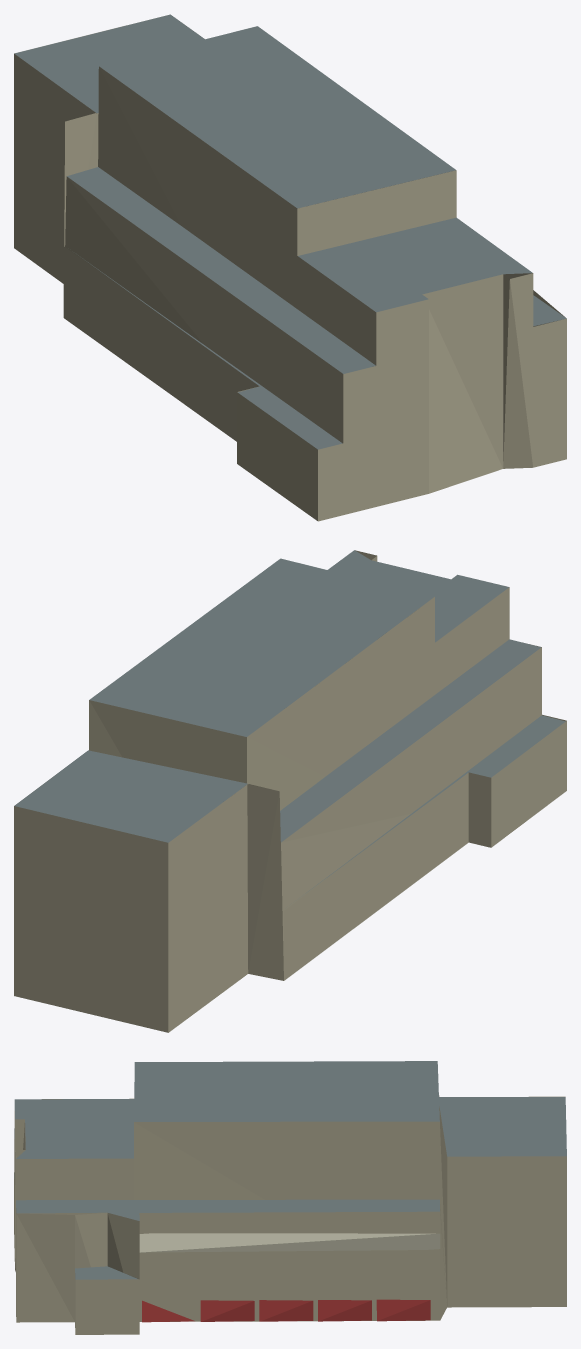
Rendered from fire-station-pieter.lod2.glb.
The picture shows the model from 3 angles, top to bottom: view 1: azimuth 30°, elevation 25°; view 2: azimuth 150°, elevation 25°; view 3: azimuth 270°, elevation 25°; orthographic projection. The views are drawn at different scales.
Parts seen in each view (by area): view 1: lod2; view 2: lod2; view 3: lod2.
Boxes of the visible parts, x1=… form: lod2: x1=14, y1=14, x2=566, y2=521; lod2: x1=14, y1=550, x2=566, y2=1032; lod2: x1=14, y1=1061, x2=566, y2=1334.
Bounding box in the file's own units: 17.81 × 14.45 × 38.64.
